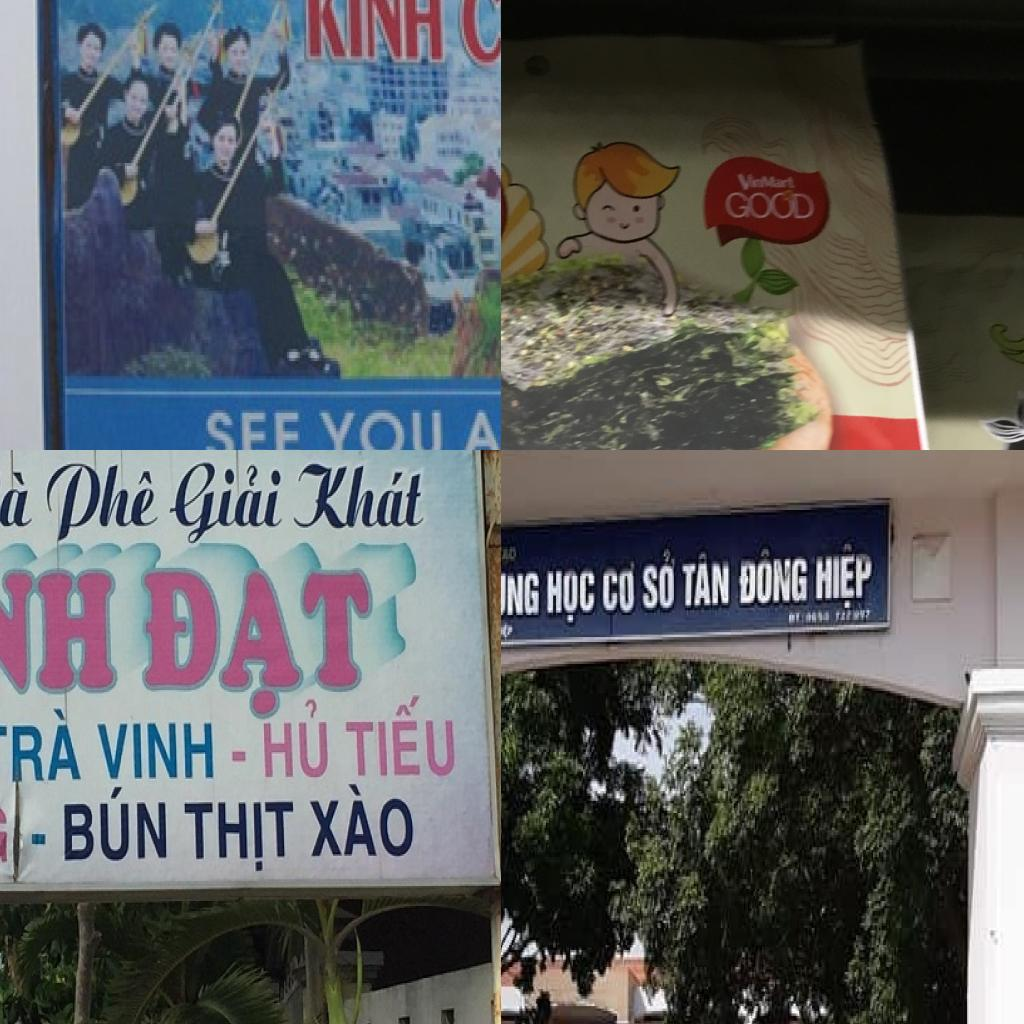text: (138, 566, 376, 719), (0, 533, 118, 697), (161, 459, 284, 550), (346, 682, 456, 780), (289, 459, 430, 535), (46, 457, 160, 543), (304, 0, 447, 65), (62, 784, 169, 864), (181, 799, 294, 874), (93, 720, 215, 784), (0, 703, 84, 783), (259, 688, 330, 780), (317, 407, 447, 450), (737, 544, 812, 615), (814, 537, 878, 610), (201, 407, 304, 450), (680, 549, 735, 615), (544, 564, 598, 627), (724, 189, 817, 223), (0, 456, 38, 538), (642, 542, 678, 618), (602, 559, 638, 620), (501, 568, 543, 620), (735, 169, 796, 193), (501, 544, 519, 571), (29, 832, 48, 848), (228, 749, 248, 762)
